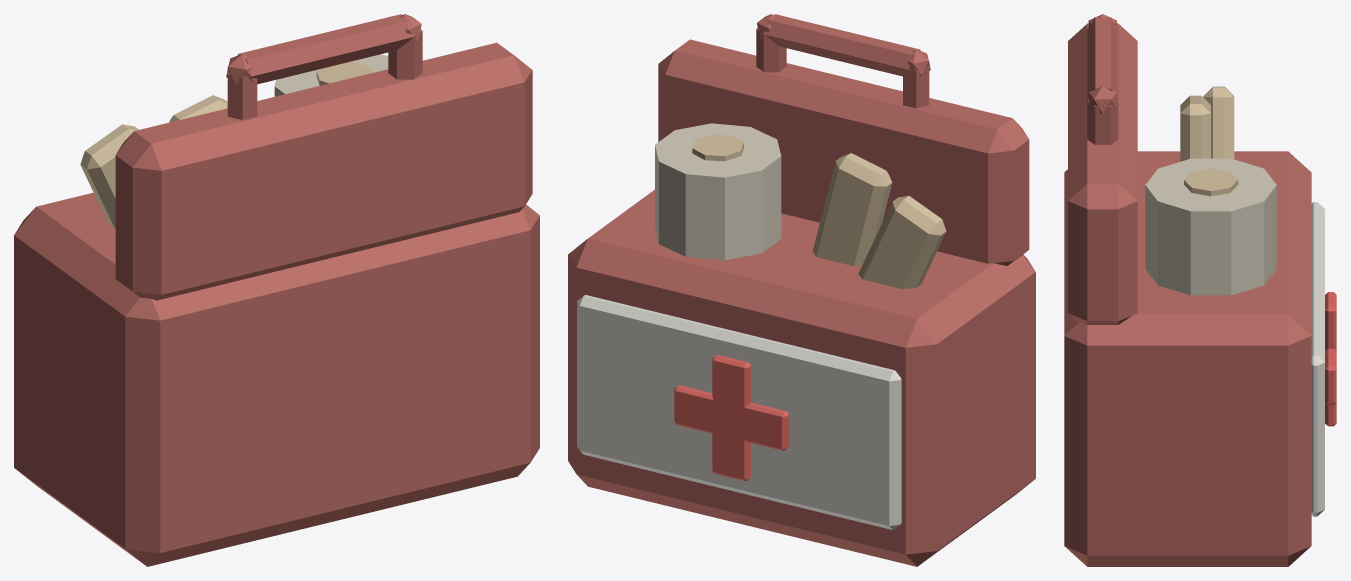
The model's file is BUILD0047_FirstAidStation.fbx.
The picture shows the model from 3 angles, left to right: view 1: azimuth 30°, elevation 25°; view 2: azimuth 150°, elevation 25°; view 3: azimuth 270°, elevation 25°; orthographic projection. The views are drawn at different scales.
Parts seen in each view (by area): view 1: BUILD0047_FirstAidStation; view 2: BUILD0047_FirstAidStation; view 3: BUILD0047_FirstAidStation.
Part boxes in pixels (left/top/right/bottom): BUILD0047_FirstAidStation: left=14, top=14, right=539, bottom=566; BUILD0047_FirstAidStation: left=568, top=14, right=1035, bottom=566; BUILD0047_FirstAidStation: left=1064, top=14, right=1336, bottom=566.
Size of the model in its own units: 1.12 by 1.24 by 0.705.
